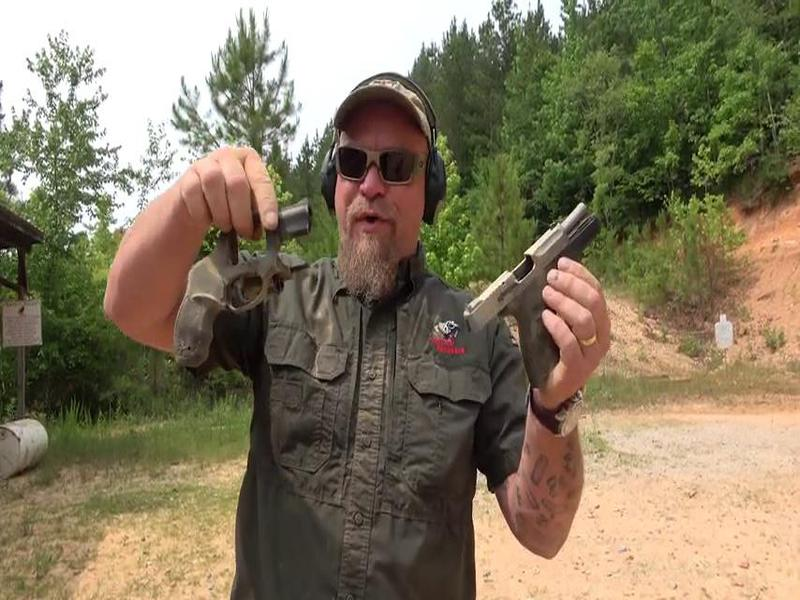Pistola: (451, 202, 618, 398)
Revolver: (171, 203, 337, 372)
